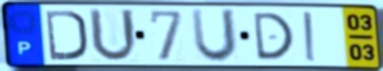7: (147, 9, 185, 63)
D: (43, 8, 90, 62), (251, 11, 296, 62)
I: (301, 10, 319, 63)
U: (87, 6, 140, 64), (189, 7, 239, 65)
